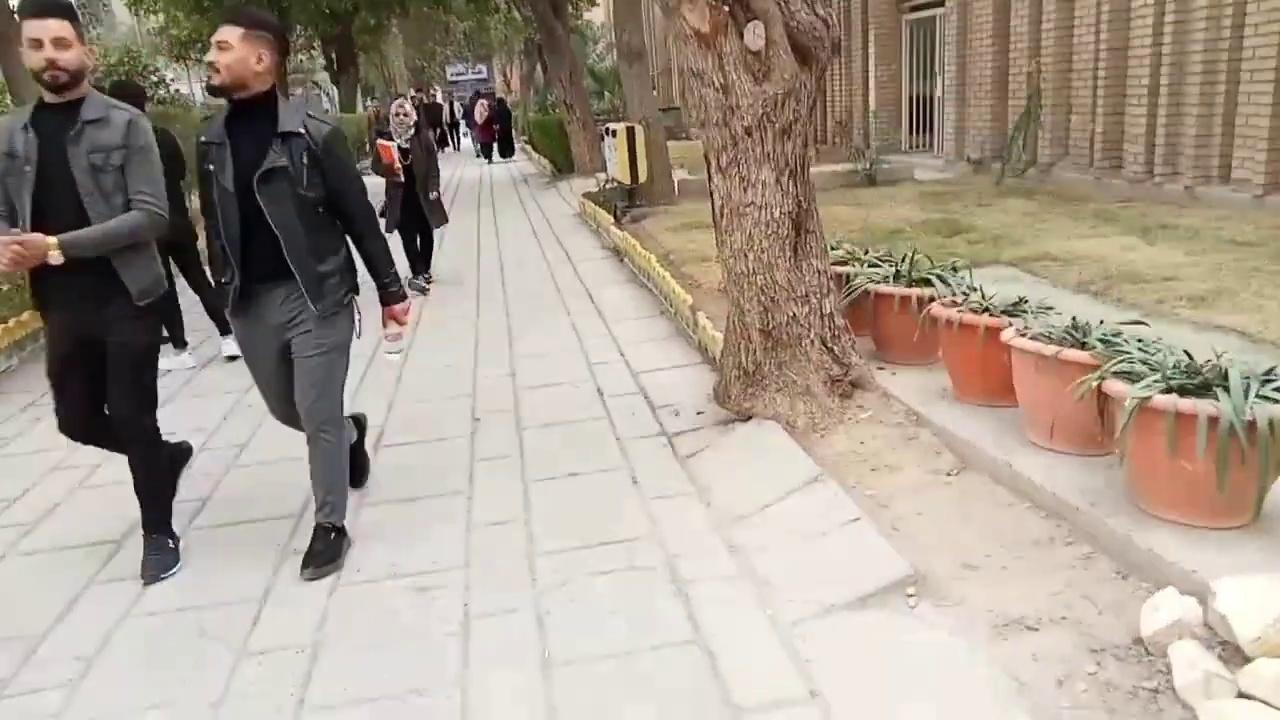person: (195, 5, 412, 580), (0, 0, 194, 585), (105, 78, 243, 368), (370, 96, 446, 295)
tree: (632, 0, 860, 432), (121, 0, 605, 175), (1073, 330, 1278, 529), (426, 0, 605, 176), (999, 312, 1150, 456), (831, 240, 967, 366), (928, 280, 1049, 407), (991, 57, 1044, 186), (866, 280, 945, 365)
